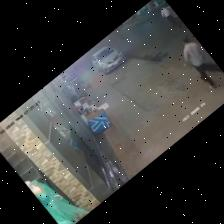person: (183, 37, 216, 87), (162, 7, 176, 25)
